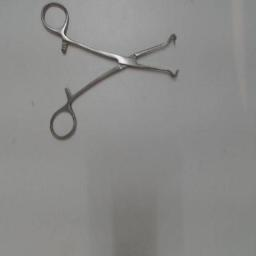Babcock Tissue Forceps: (38, 2, 182, 142)
